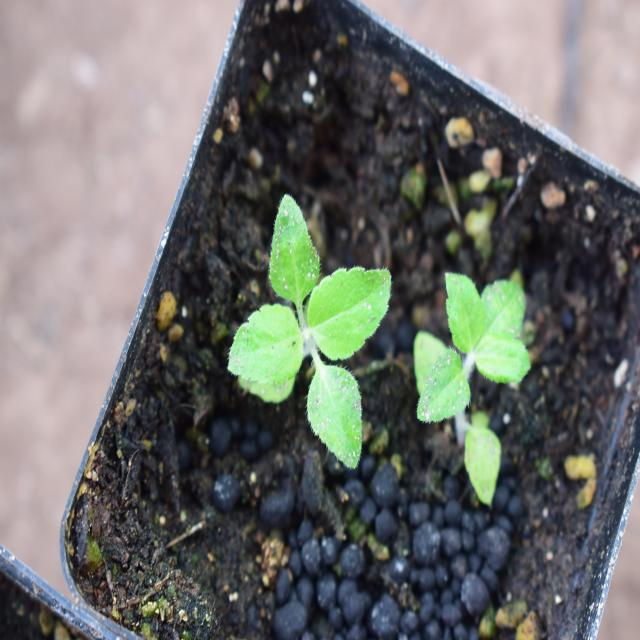billygoat_weed: (225, 225, 394, 453), (418, 255, 530, 508)
